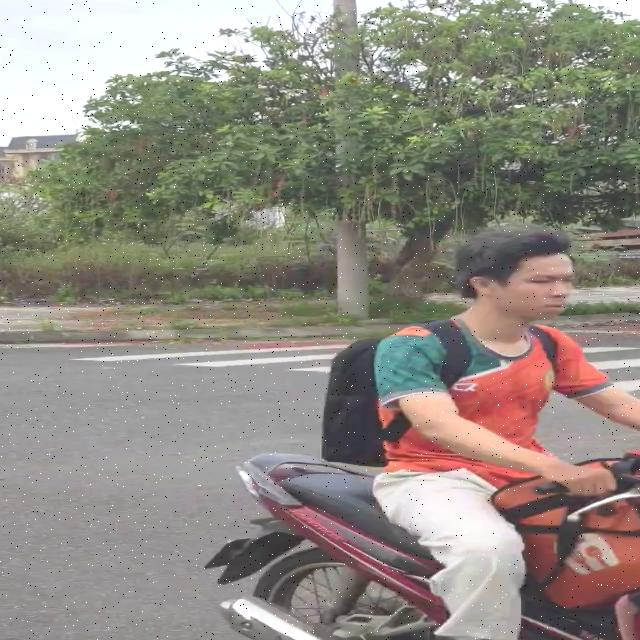no_helmet: (447, 228, 580, 334)
